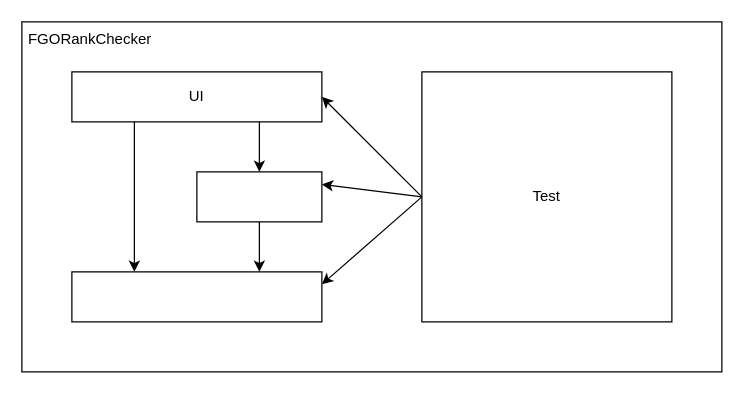
This 744x394 diagram has some shape labels left out. The centre of each missing label's shape, as x and y in pixels:
"Domain" goes at [196,296].
"Infrastructure" goes at [259,196].
